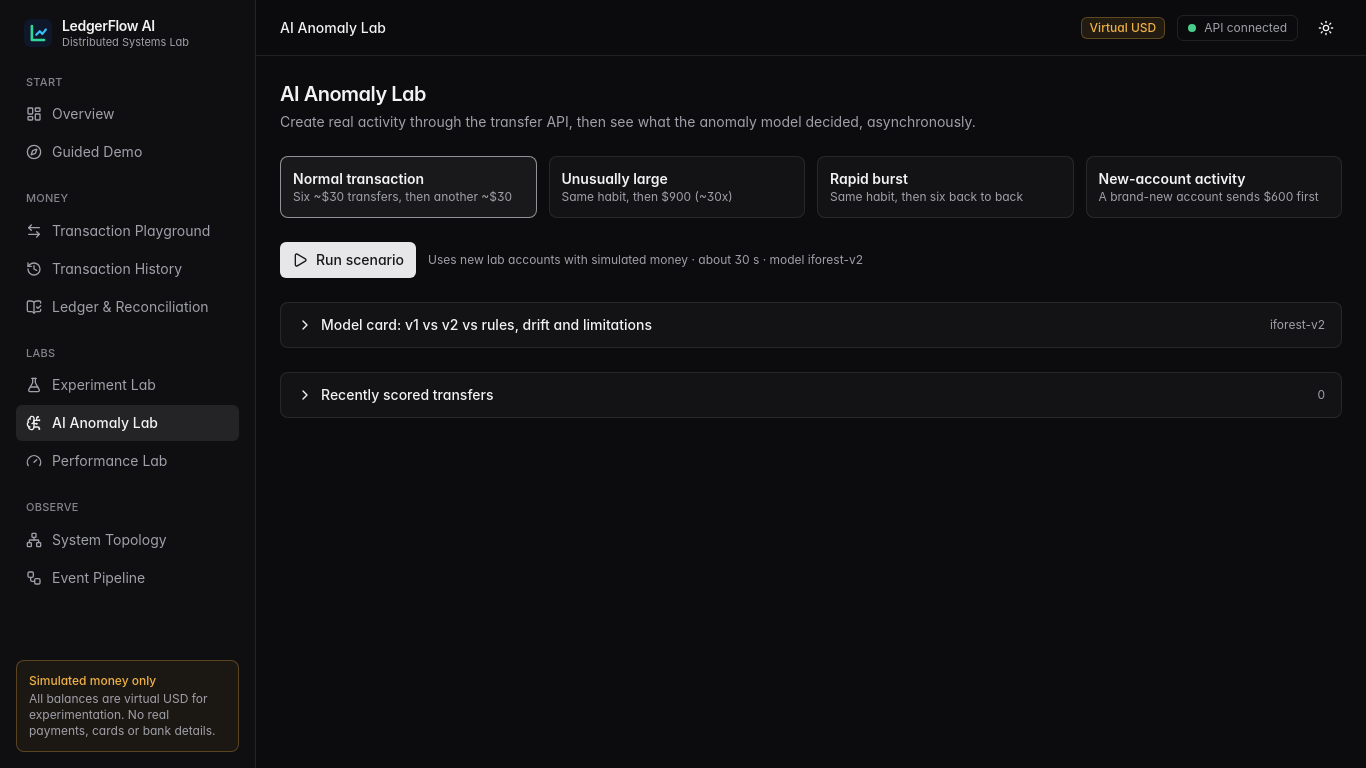
AI Anomaly Lab › runs a scenario through the normal lab API and leads with the verdict
The width and height of the screenshot is (1366, 768).
Click the radio button labelled "Rapid burst Same habit, then six back to back": {"x": 945, "y": 187} [817,156,1074,218]
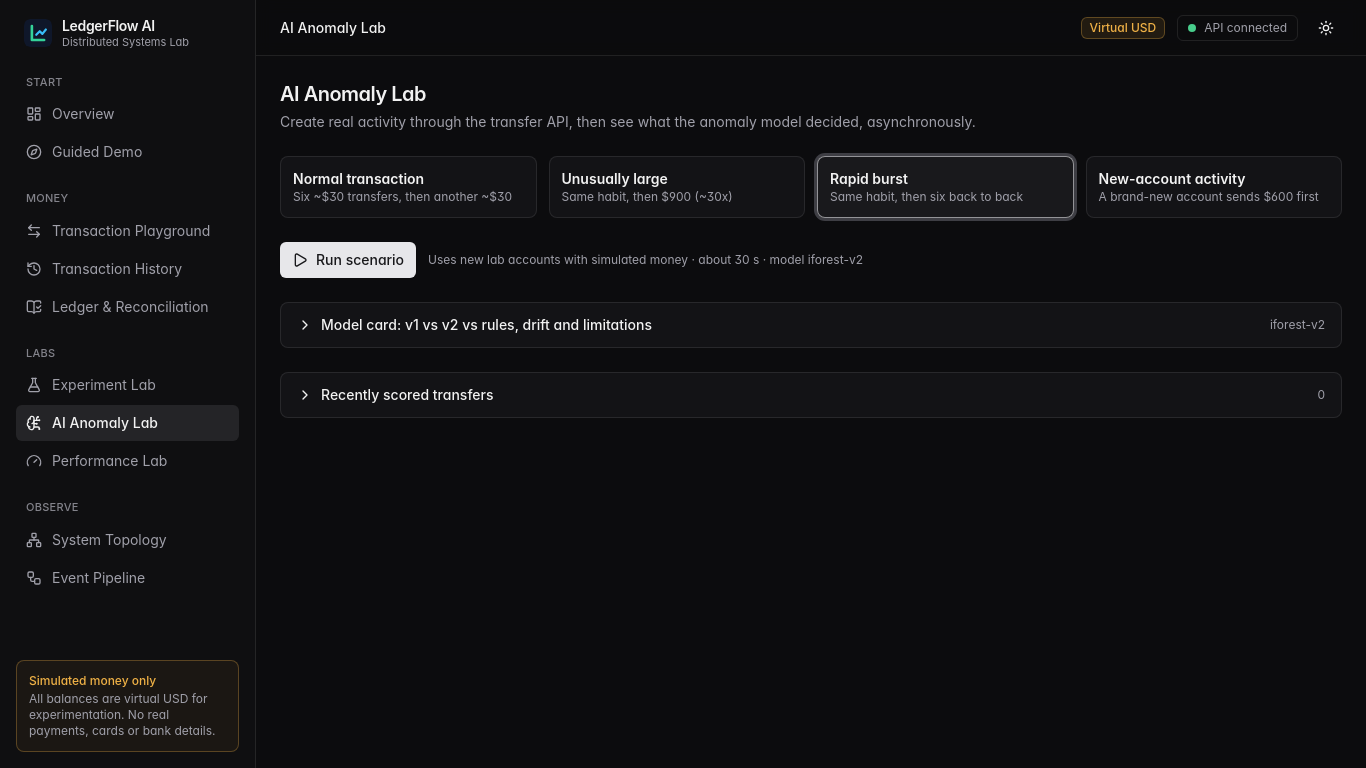
Click the button "Run scenario": {"x": 348, "y": 260} [280,242,416,278]
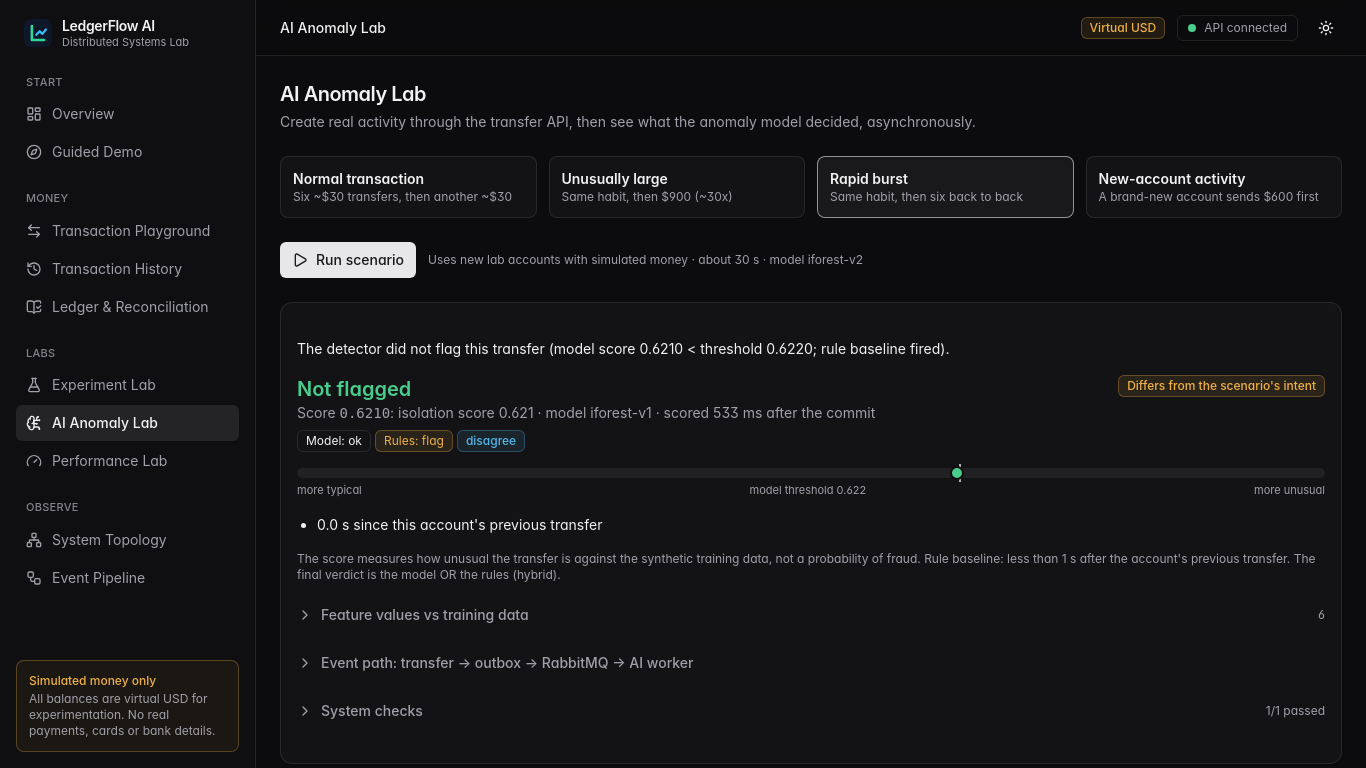
Result: the text "Not flagged" is shown at [297,377,411,401]
Result: the text "Differs from the scenario's intent" is shown at [1118,375,1325,397]
Result: the text "not a probability of fraud" is shown at [297,550,1004,566]
